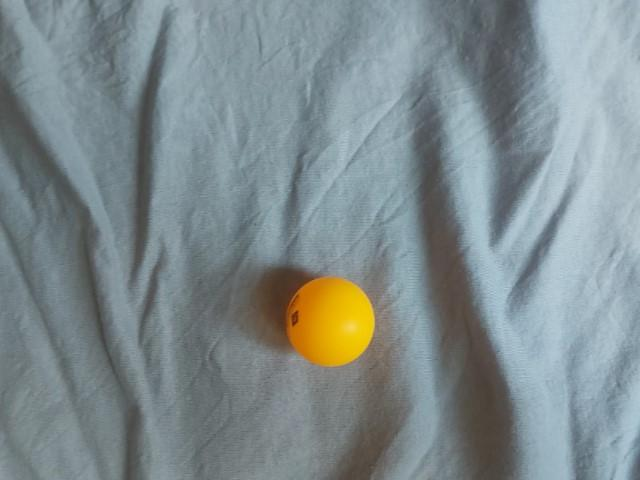oball: (259, 111, 362, 211)
